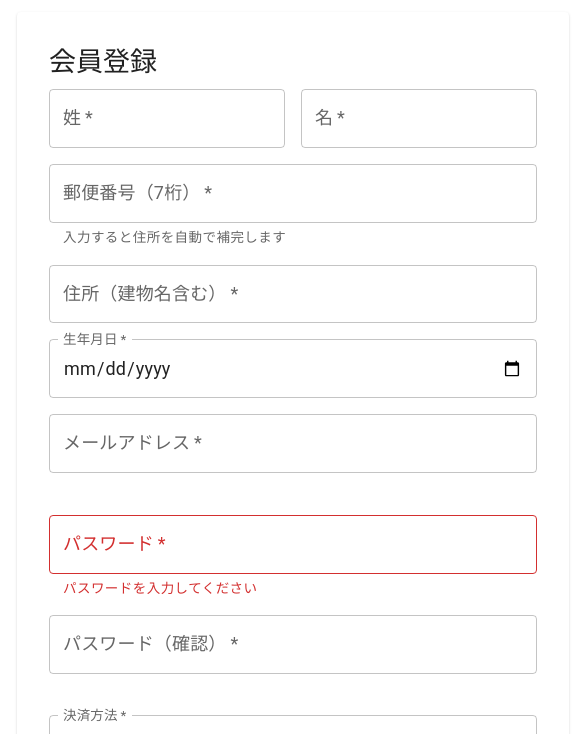
Test: Register › メール重複時にエラー表示する
The image size is (587, 734).
Type "used@example.com" into the field labelled "メールアドレス *".
click(293, 444); type("used@example.com")  # box [49,414,537,473]
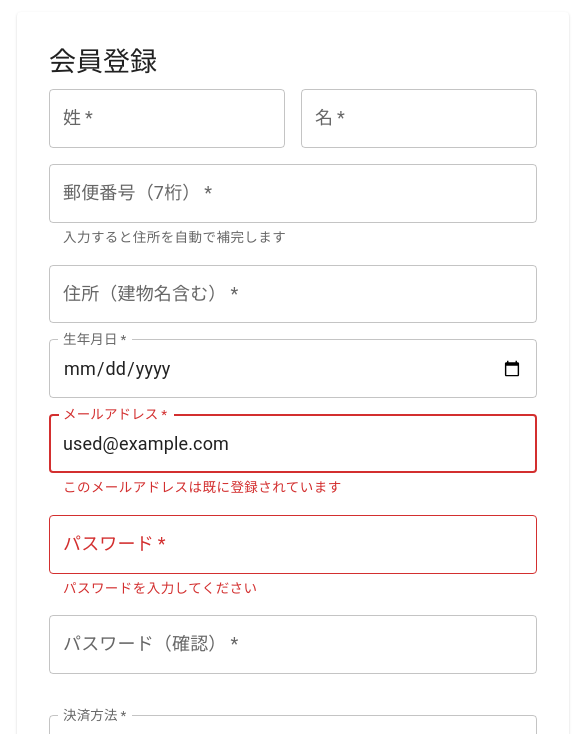
Check: the text "このメールアドレスは既に登録されています" is shown, box [63,479,342,495]
